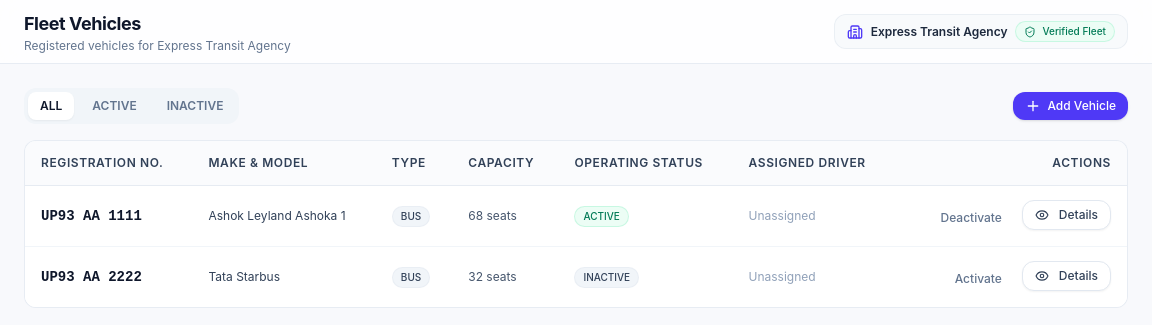
Test: Vehicle Registration Strict Contract & Flow Suite › fetches vehicles without status query parameter and filters by isActive client-side across ALL, ACTIVE, and INACTIVE tabs
Expected: the text "UP93 AA 1111" is shown, left=25, top=186, right=192, bottom=246
Expected: the text "UP93 AA 2222" is shown, left=25, top=246, right=192, bottom=307
Click ACTIVE tab
Click the button "ACTIVE": [114, 106] box left=80, top=92, right=149, bottom=120
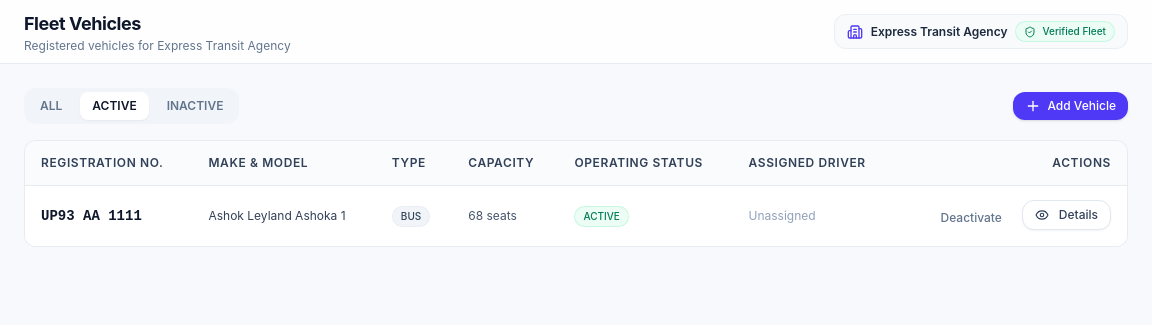
Expected: the text "UP93 AA 1111" is shown, left=25, top=186, right=192, bottom=246
Result: the text "UP93 AA 2222" is not shown
Click INACTIVE tab
Click the button "INACTIVE": [195, 106] box left=155, top=92, right=236, bottom=120
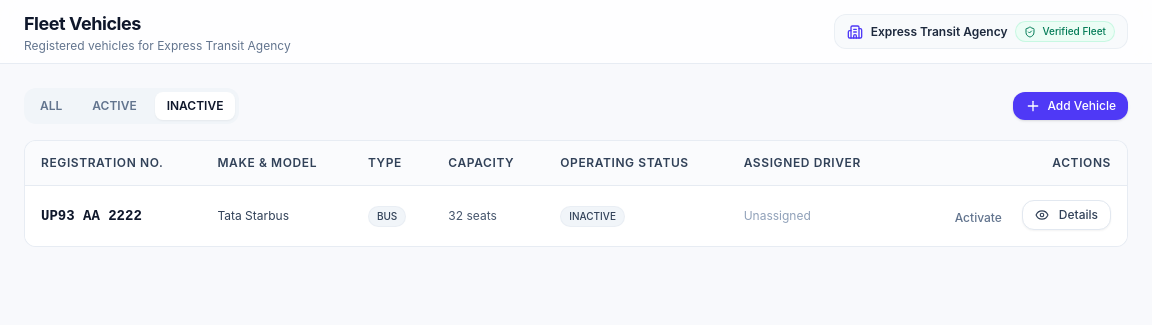
Result: the text "UP93 AA 1111" is not shown
Result: the text "UP93 AA 2222" is shown at left=25, top=186, right=201, bottom=246
Click back to ALL tab
Click the button "ALL": [51, 106] box left=28, top=92, right=74, bottom=120
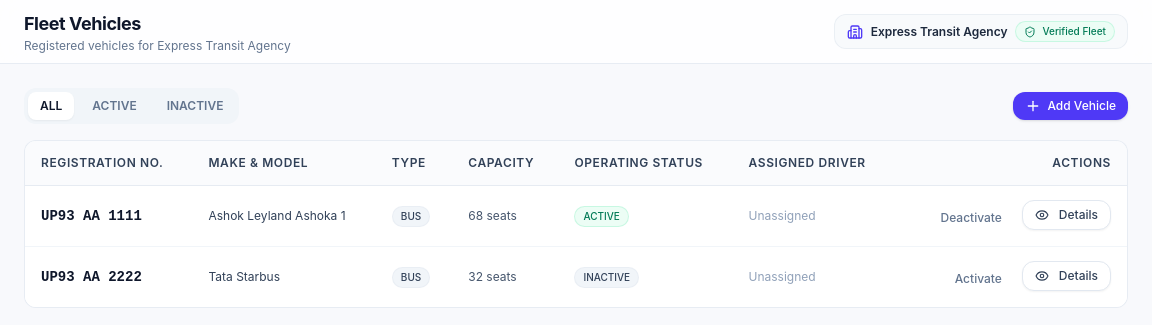
Result: the text "UP93 AA 2222" is shown at left=25, top=246, right=192, bottom=307
Result: the text "UP93 AA 1111" is shown at left=25, top=186, right=192, bottom=246
